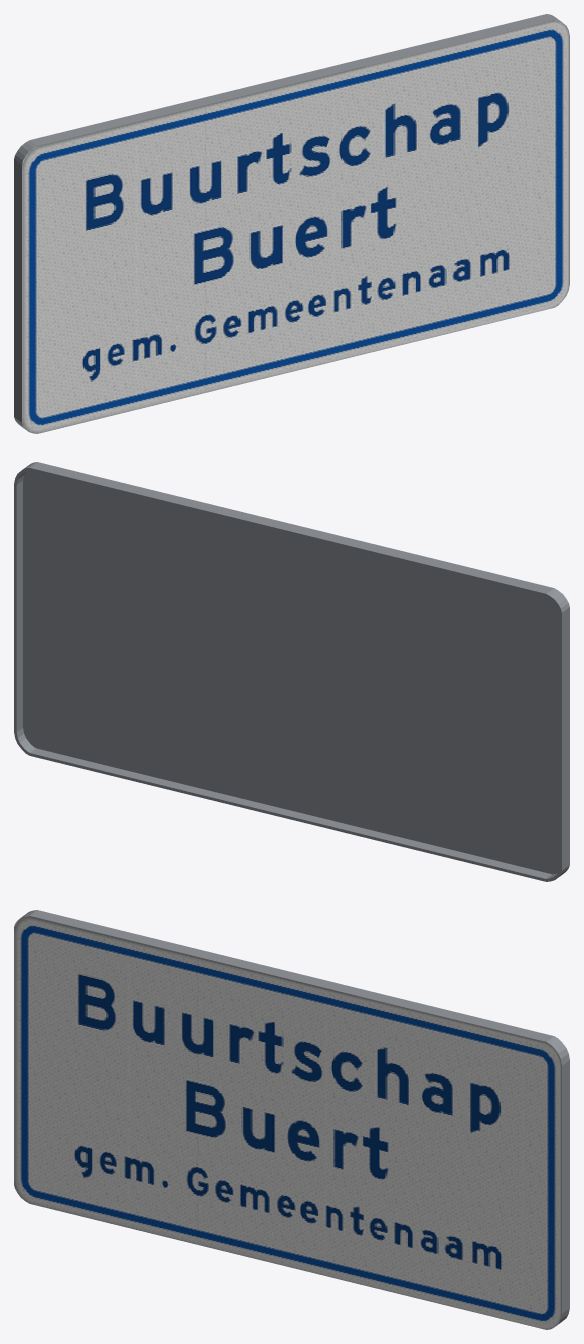
The picture shows the model from 3 angles, top to bottom: view 1: azimuth 30°, elevation 25°; view 2: azimuth 150°, elevation 25°; view 3: azimuth 330°, elevation 25°; orthographic projection.
Visible parts, largest first — view 1: cat_377360b882f0c694; view 2: cat_377360b882f0c694; view 3: cat_377360b882f0c694.
Part boxes in pixels (x1,y1,x2,y2): cat_377360b882f0c694: [14, 14, 569, 433]; cat_377360b882f0c694: [14, 462, 569, 881]; cat_377360b882f0c694: [14, 910, 569, 1329].
Size of the model in its own units: 0.6 by 0.015 by 0.3013.
Materials: 2 (1 with a texture image).
